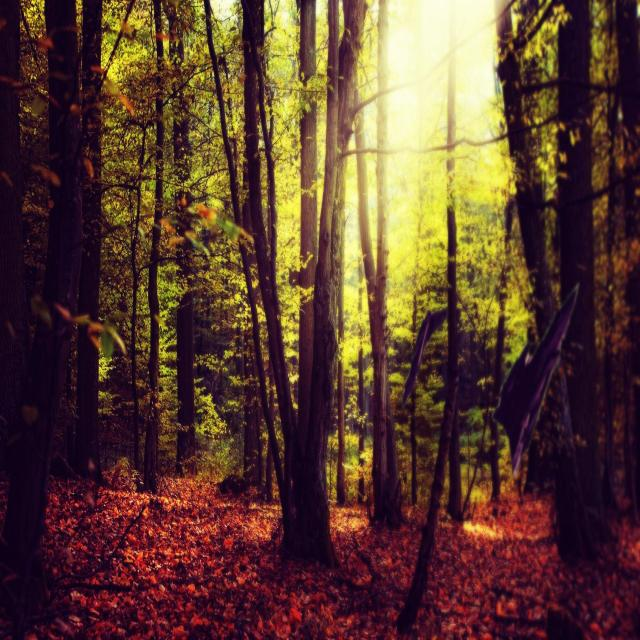airplane: (492, 280, 580, 479)
